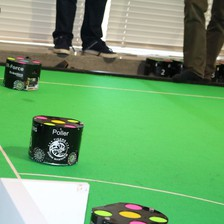robot: (26, 112, 85, 168), (87, 201, 171, 224), (1, 53, 42, 92), (142, 54, 173, 79)
